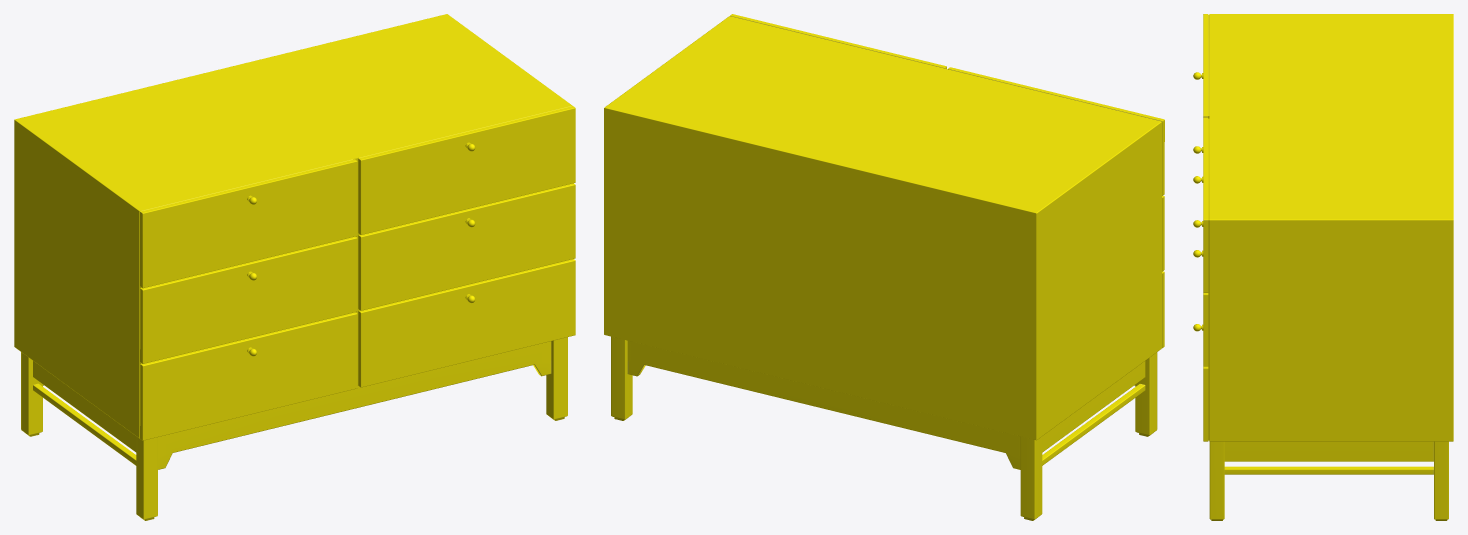
The model's file is Bravo Delux Wardrobe.glb.
The picture shows the model from 3 angles, left to right: view 1: azimuth 30°, elevation 25°; view 2: azimuth 150°, elevation 25°; view 3: azimuth 270°, elevation 25°; orthographic projection. The views are drawn at different scales.
Visible parts, largest first — view 1: node_id195; view 2: node_id195; view 3: node_id195.
Part boxes in pixels (x1,y1,x2,y2): node_id195: (14, 14, 575, 520); node_id195: (604, 14, 1164, 520); node_id195: (1193, 14, 1453, 520).
Bounding box in the file's own units: 0.3657 × 0.2519 × 0.1953.
Materials: 1 (1 with a texture image).
